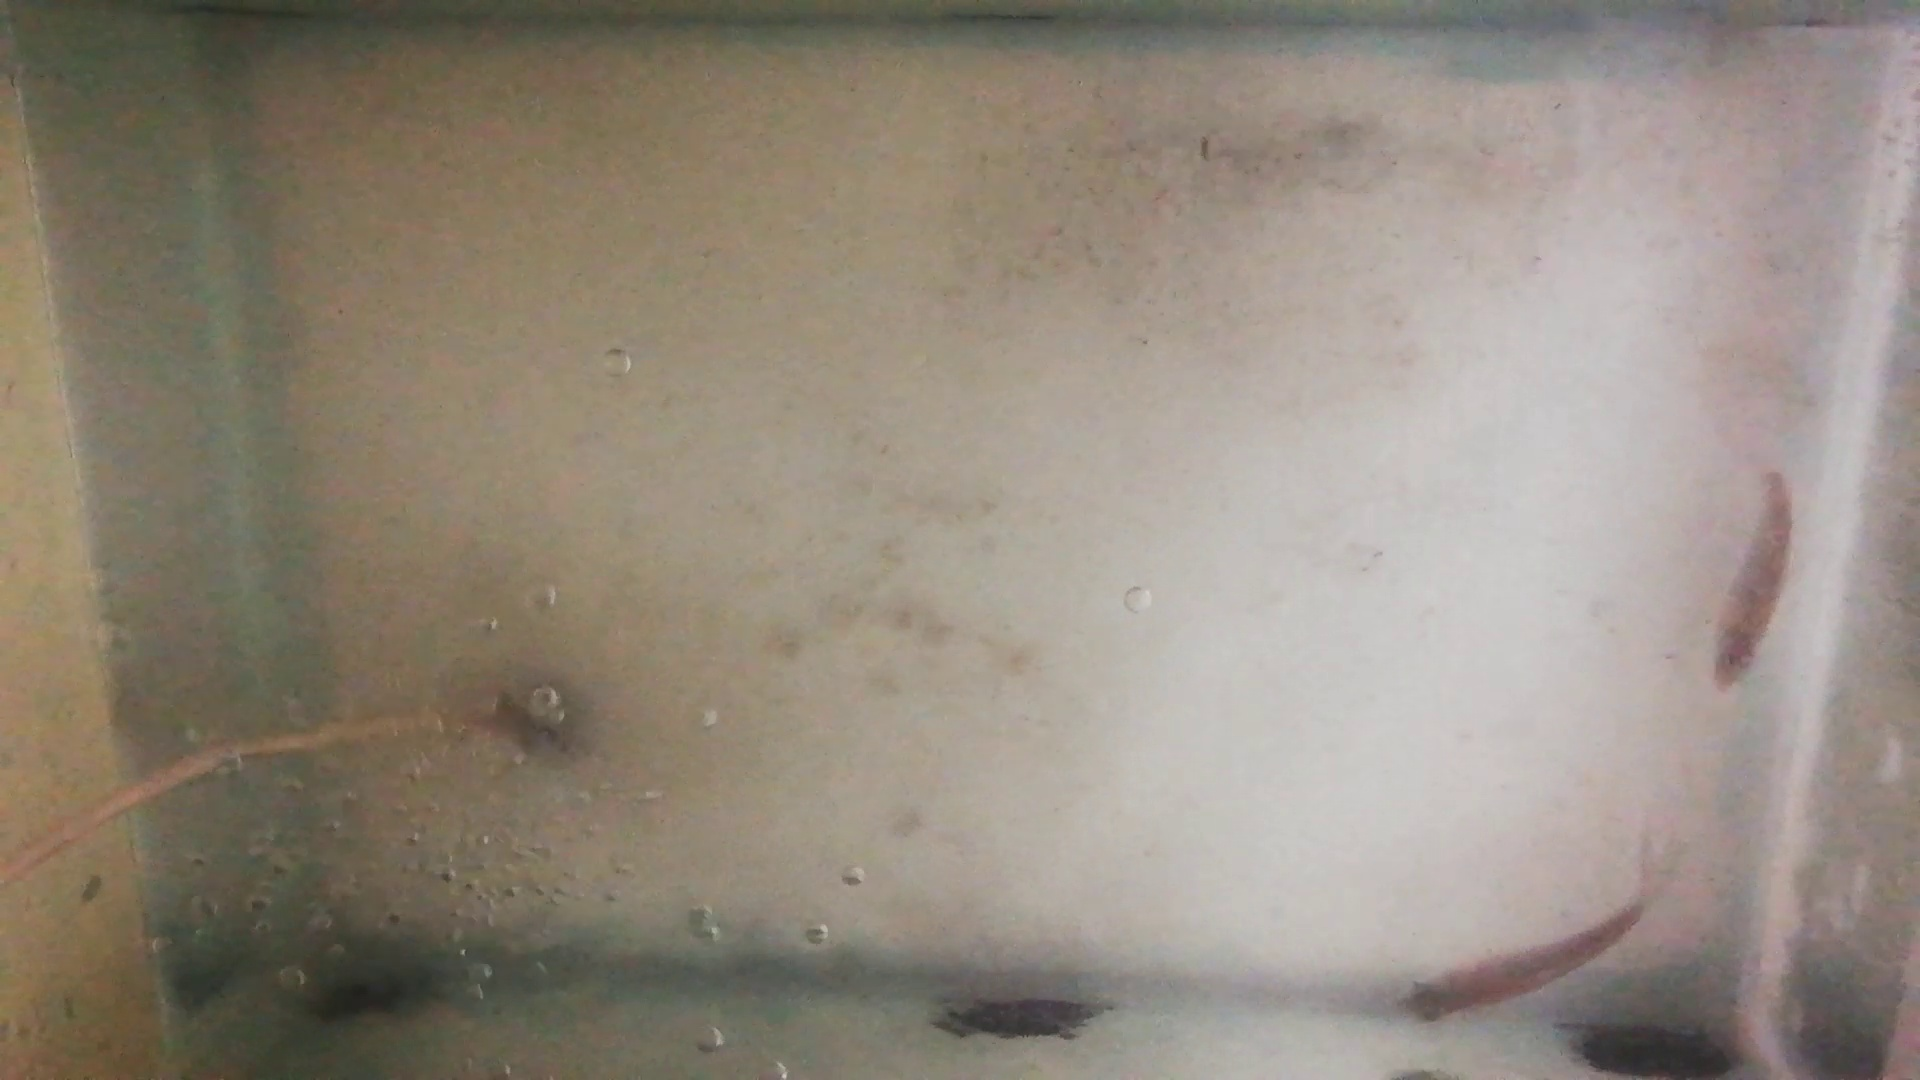fish: (1399, 905, 1648, 1019), (1709, 475, 1795, 688)
